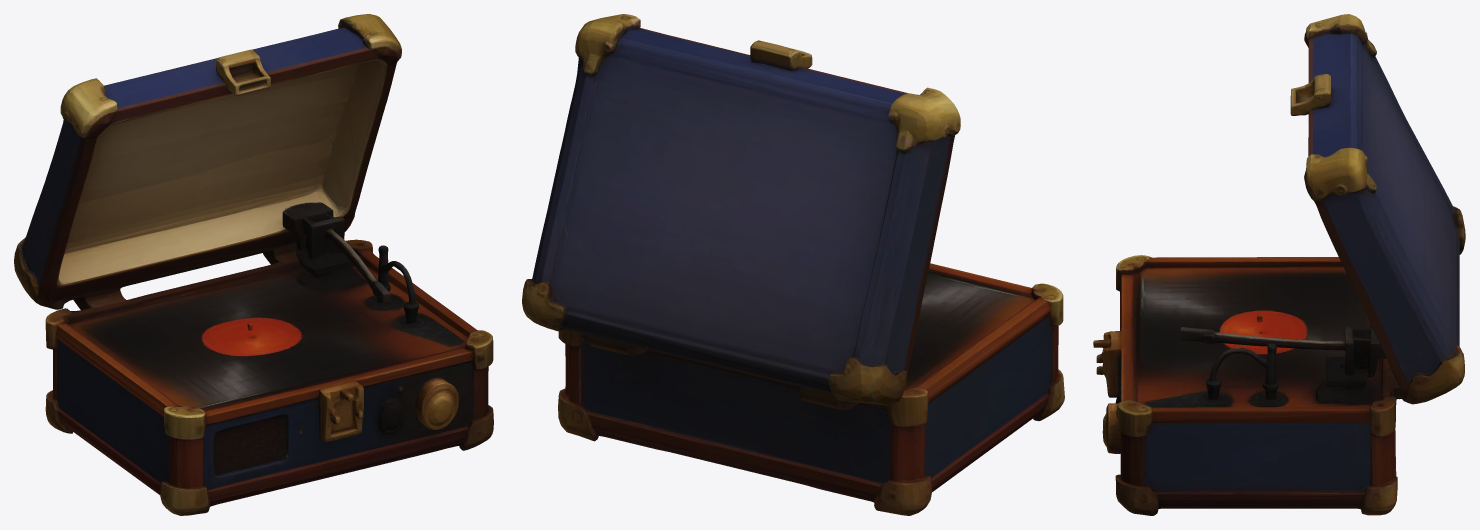
File: record-player.glb
3 views of the same model, side by side, from view 1: azimuth 30°, elevation 25°; view 2: azimuth 150°, elevation 25°; view 3: azimuth 270°, elevation 25° (orthographic). The views are drawn at different scales.
Parts seen in each view (by area): view 1: world; view 2: world; view 3: world.
Boxes of the visible parts, box(x1,y1,x2,y2) form: world: box(14, 14, 493, 515); world: box(522, 14, 1064, 515); world: box(1093, 14, 1465, 515).
Bounding box in the file's own units: 0.9427 × 0.9905 × 0.9276.
Materials: 1 (1 with a texture image).
